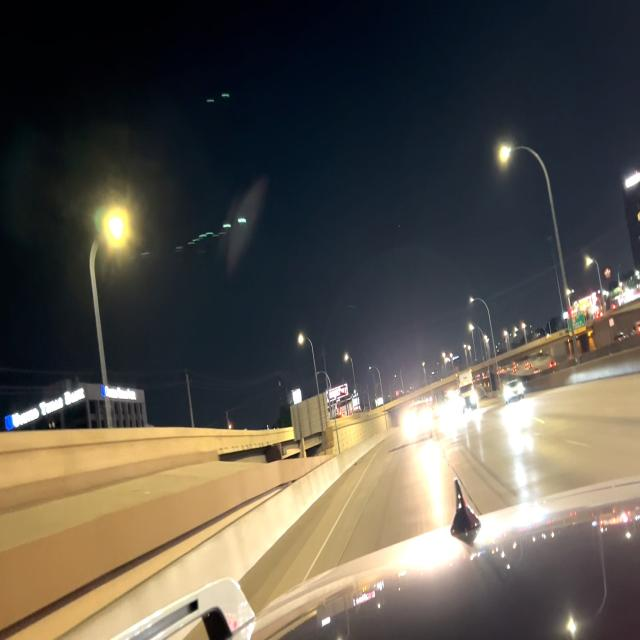back-of-sign: (291, 393, 329, 440)
